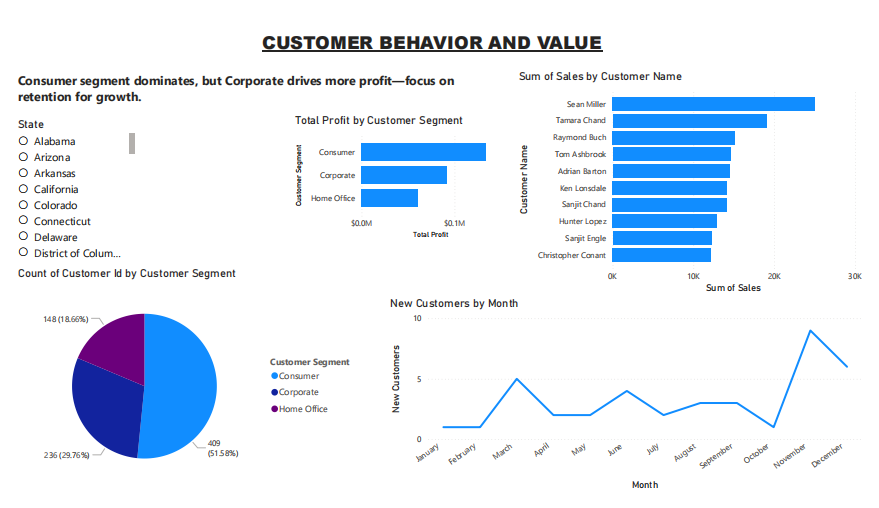

The page's visual inventory and layout, read from the dashboard file:
{"tool":"powerbi","page":{"name":"Customer Insights","canvas":[1280,720],"ordinal":1},"visuals":[{"type":"clusteredBarChart","fields":{"Y":["Sum(Orders.Sales)"],"Category":["Customers.Customer Name"]},"box":[754.4,82.2,525.6,341.5],"z":0},{"type":"pieChart","fields":{"Category":["Customers.Customer Segment"],"Y":["Count(Customers.Customer Id)"]},"box":[0,379,525.6,341.5],"z":1000},{"type":"clusteredBarChart","fields":{"Category":["Customers.Customer Segment"],"Y":["Orders.Total Profit"]},"box":[418.3,148.4,336.1,193.1],"z":2000},{"type":"lineChart","fields":{"Category":["Orders.Order Date.Variation.Date Hierarchy.Year","Orders.Order Date.Variation.Date Hierarchy.Month"],"Y":["Customers.New Customers"]},"box":[561.3,423.7,718.7,296.8],"z":3000},{"type":"textbox","box":[0,80.4,724,67.9],"z":4000},{"type":"listSlicer","fields":{"Values":["States.State"]},"box":[0,153.7,185.9,225.3],"z":5000},{"type":"textbox","box":[336.1,17.9,584.6,62.6],"z":6000}]}

Visuals, with their boxes in screenshot pixels (x1, y1, x2, y2), scaled from the page's 1280x720 canvas onto the 879x508 screenshot:
clusteredBarChart - Sum(Orders.Sales) x Customers.Customer Name: 518, 58, 878, 299
pieChart - Customers.Customer Segment x Count(Customers.Customer Id): 0, 267, 361, 507
clusteredBarChart - Customers.Customer Segment x Orders.Total Profit: 287, 105, 518, 241
lineChart - Orders.Order Date.Variation.Date Hierarchy.Year x Orders.Order Date.Variation.Date Hierarchy.Month: 385, 299, 878, 507
textbox: 0, 57, 497, 105
listSlicer - States.State: 0, 108, 128, 267
textbox: 231, 13, 632, 57
